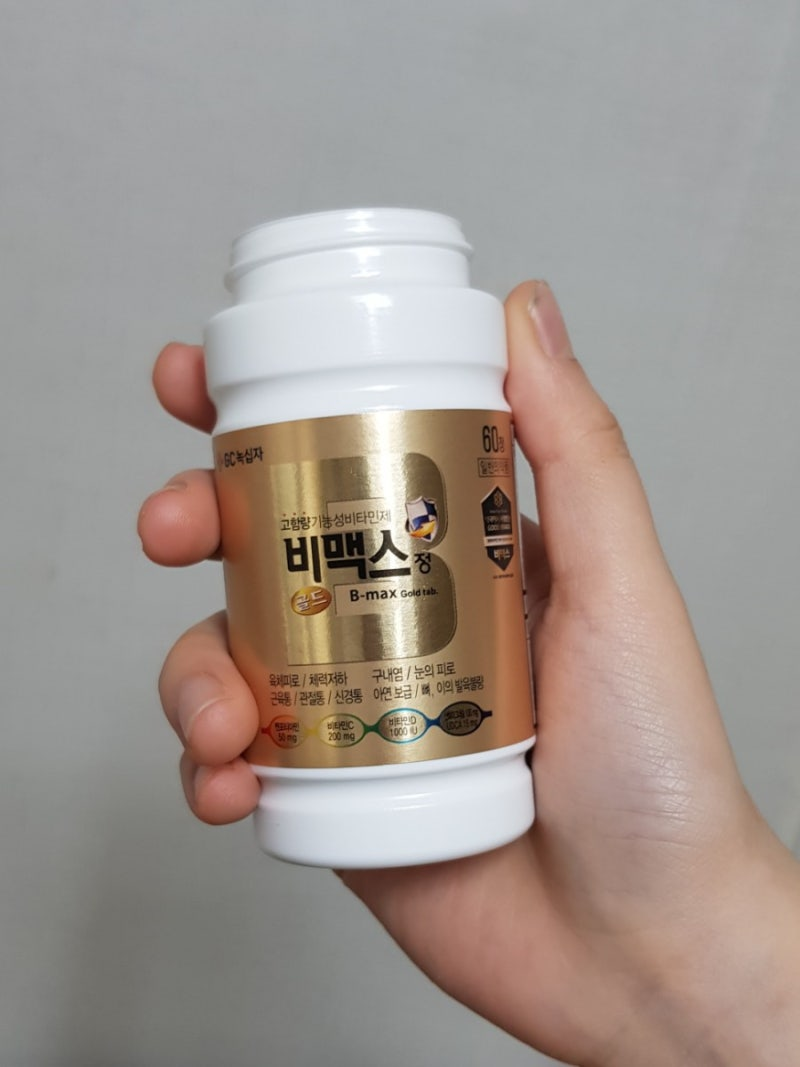supplement_label: (178, 393, 570, 785)
